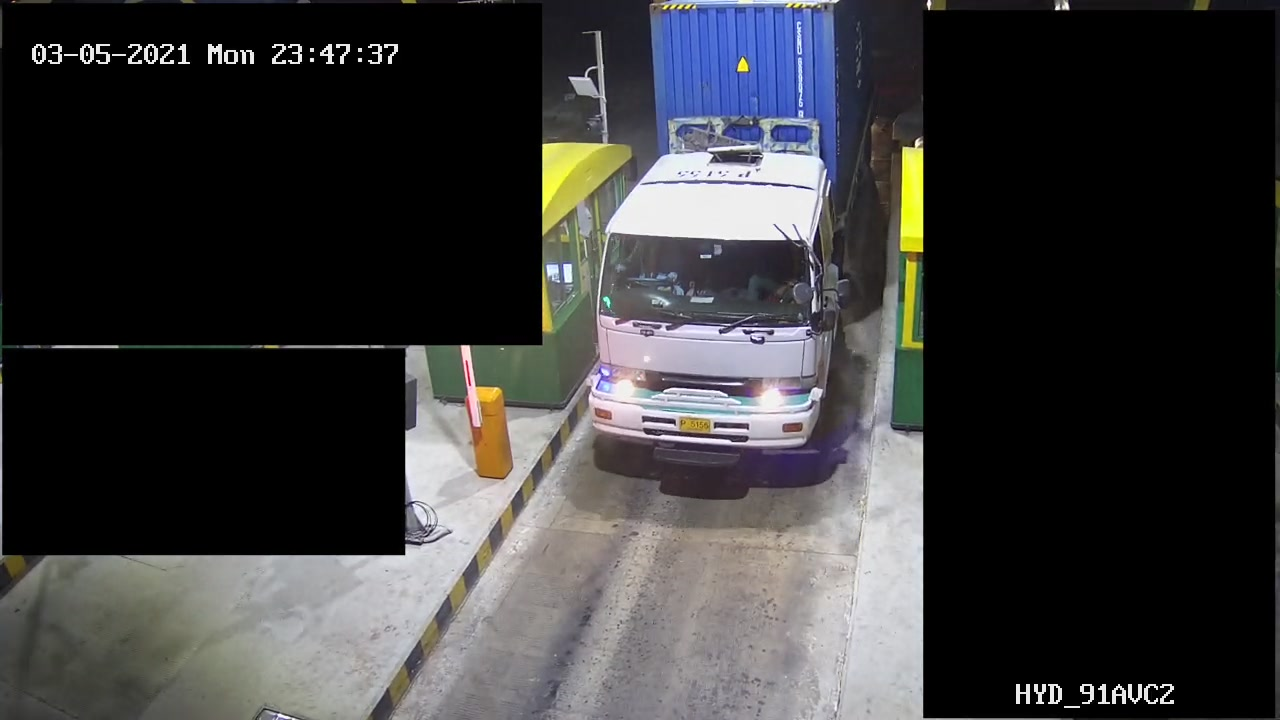F6: (581, 1, 891, 494)
